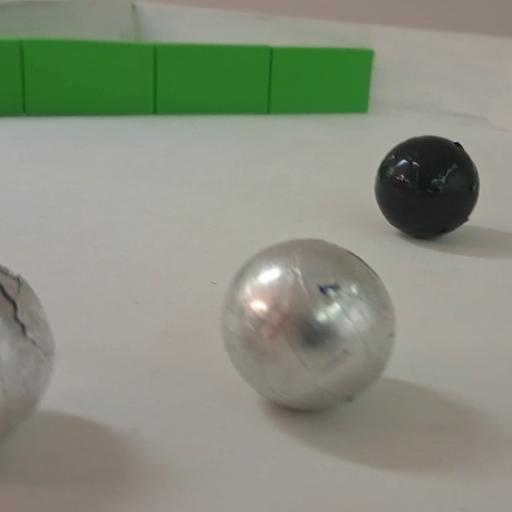alive: (214, 232, 399, 416), (0, 256, 55, 454)
dead: (372, 132, 480, 239)
